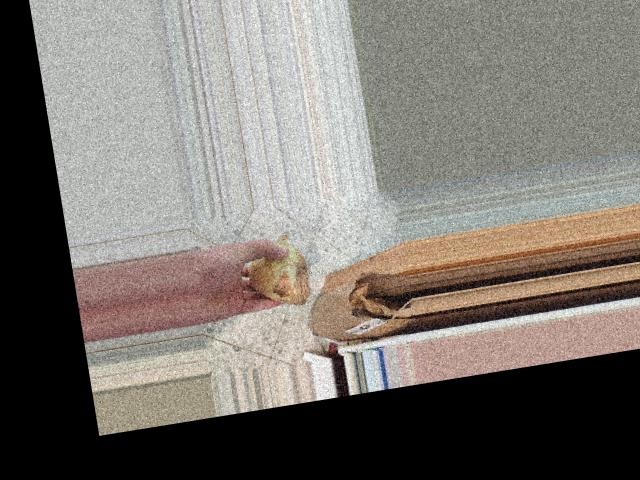onion: (238, 234, 319, 314)
